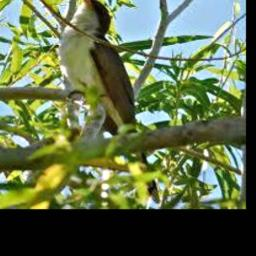Cuckoo: (59, 0, 161, 204)
